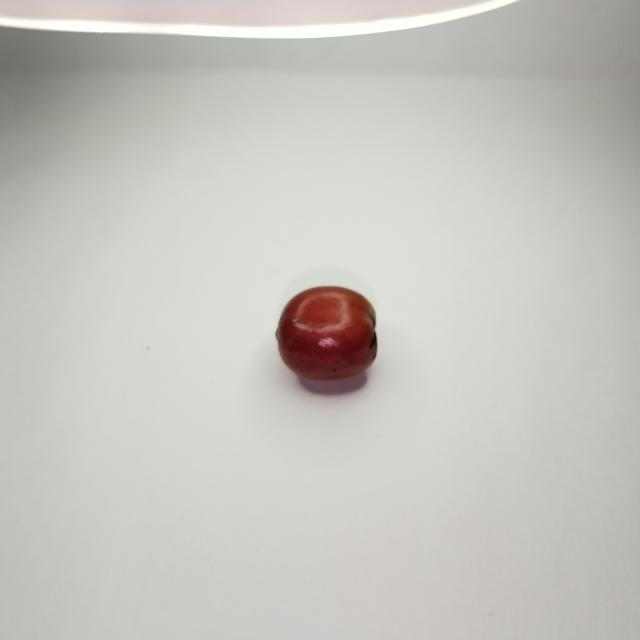Sano: (276, 286, 377, 392)
